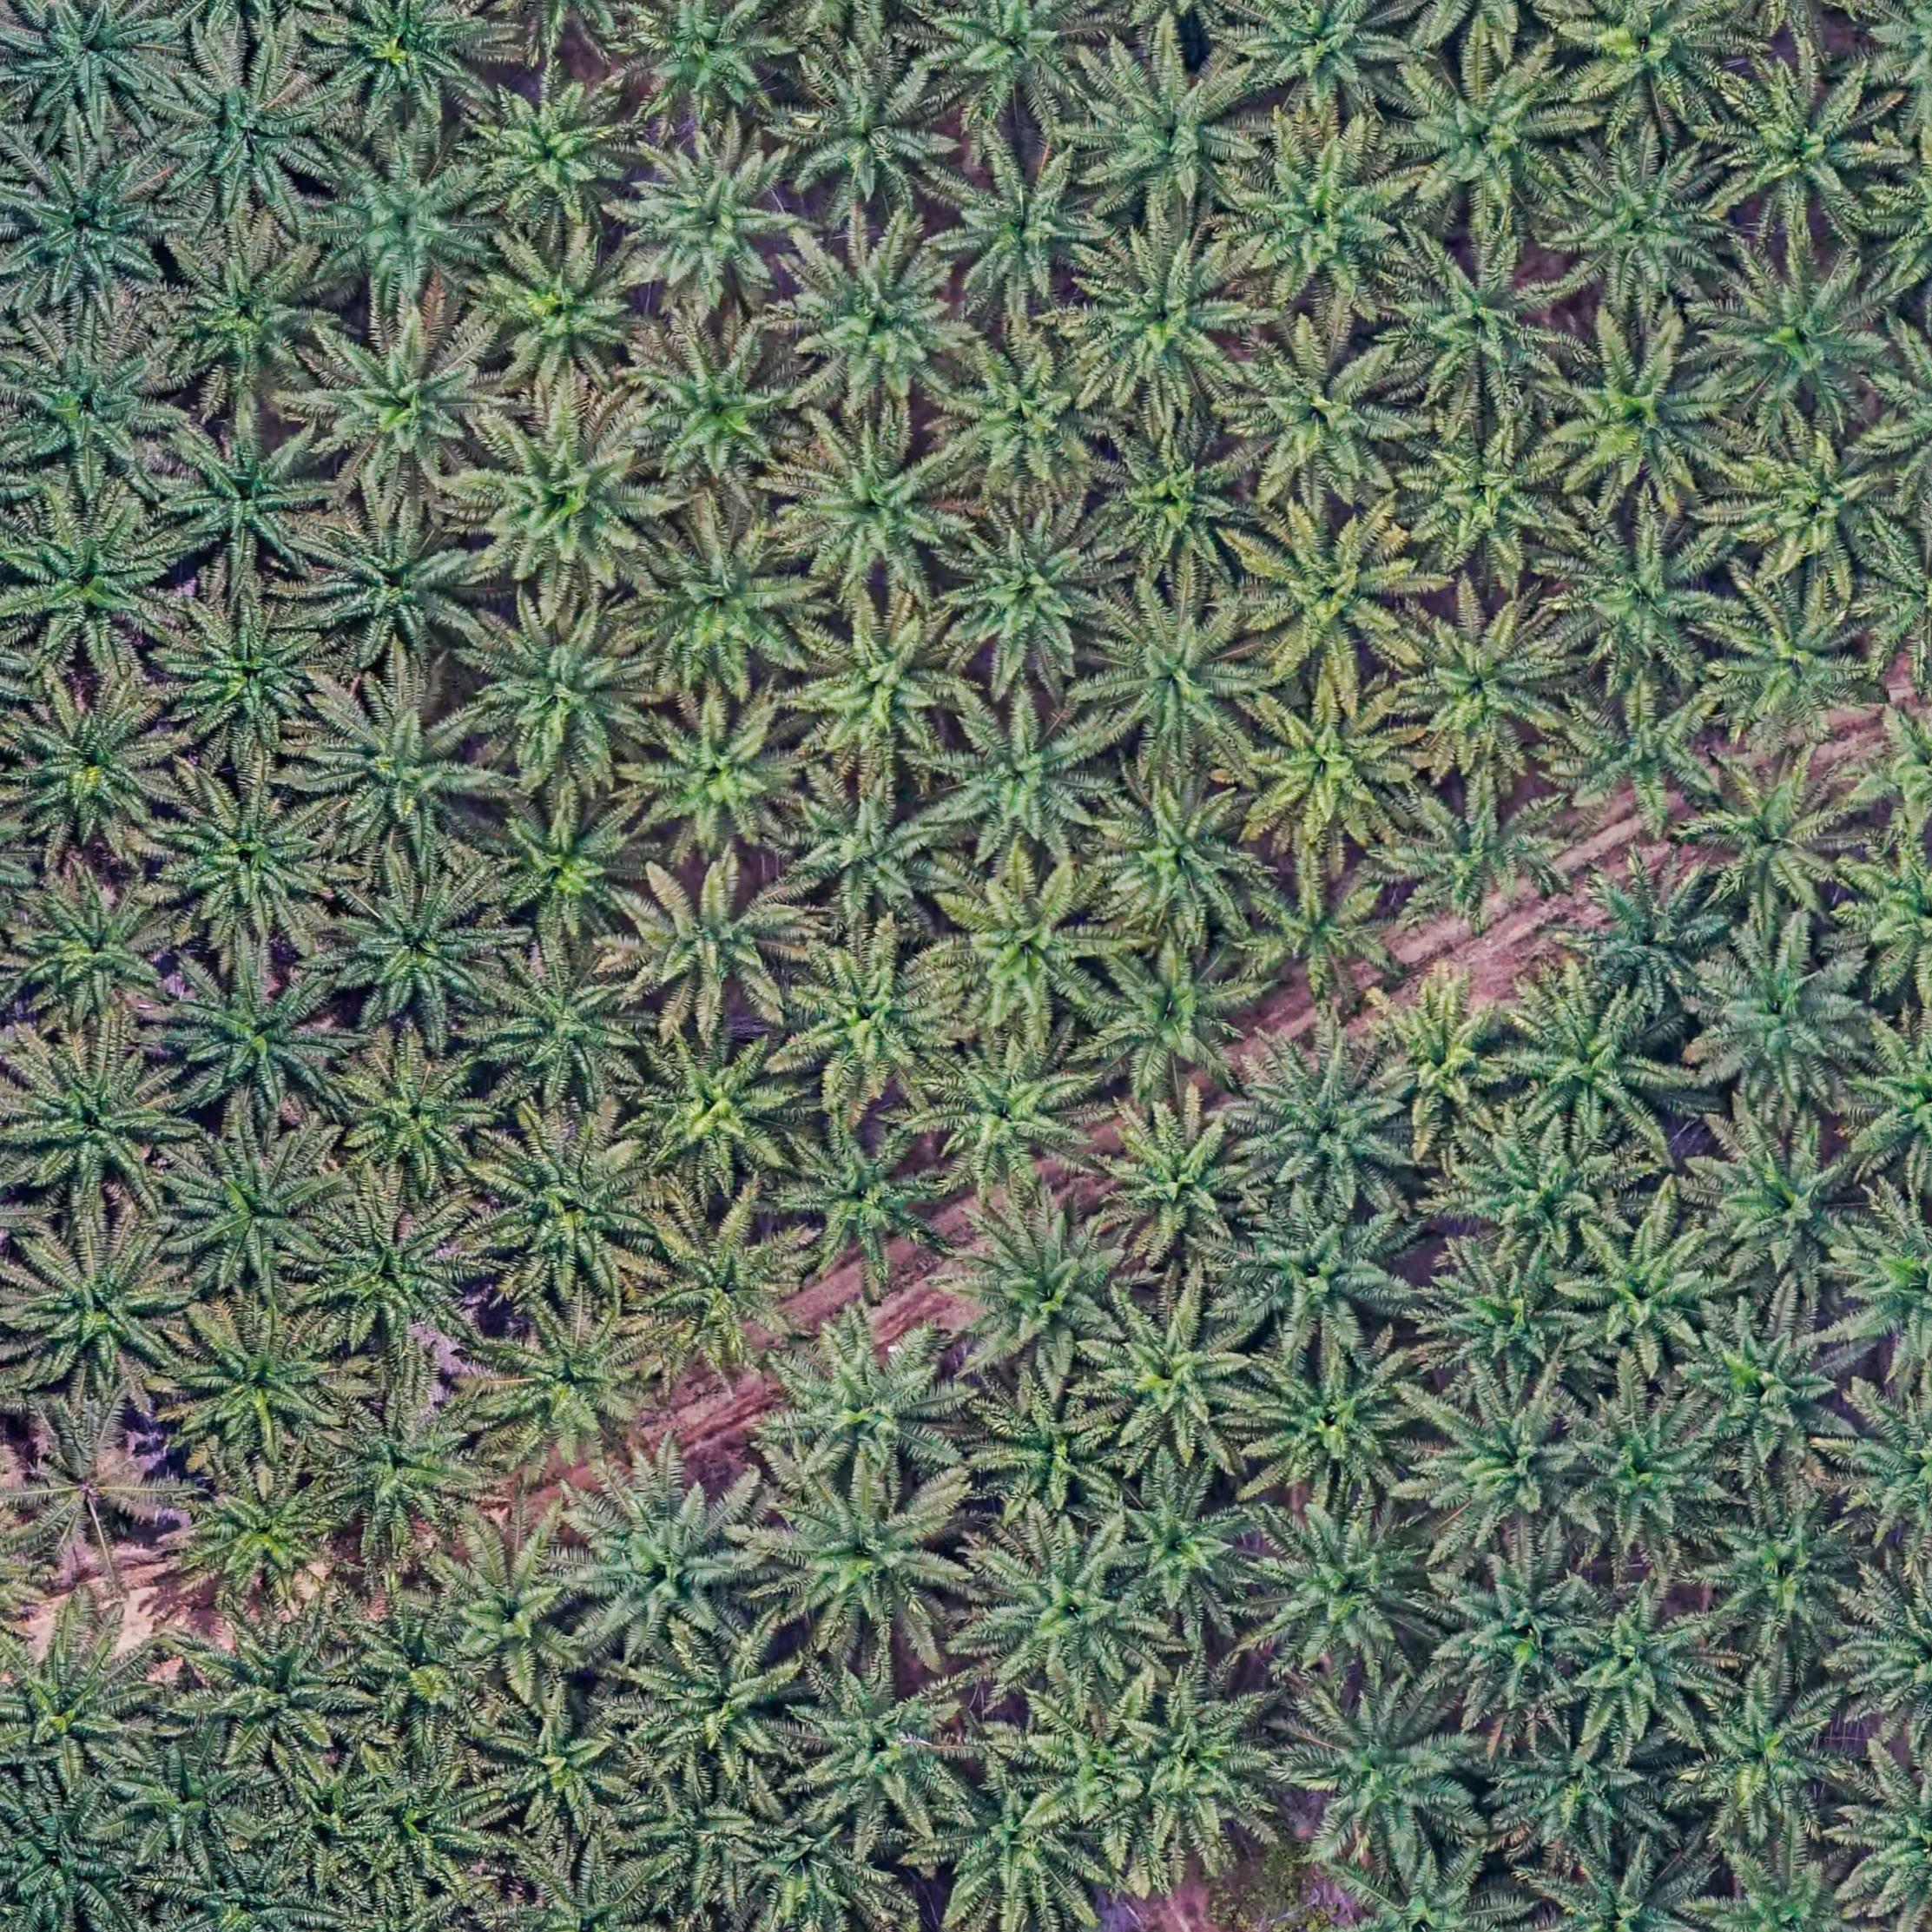palmtree: (747, 1465, 975, 1661), (556, 1463, 768, 1663), (936, 1191, 1150, 1387), (456, 402, 671, 596), (1240, 1493, 1453, 1686), (1537, 317, 1741, 517), (1276, 1675, 1484, 1868), (761, 1309, 973, 1499), (1095, 1674, 1297, 1872), (467, 1106, 663, 1300), (775, 414, 977, 603), (959, 1518, 1164, 1704), (1491, 977, 1702, 1157), (1237, 494, 1435, 685), (1686, 929, 1881, 1122), (1382, 226, 1578, 418), (778, 226, 977, 416), (1706, 239, 1900, 430), (1389, 41, 1589, 226), (1072, 225, 1265, 416), (1387, 589, 1582, 778), (1223, 318, 1417, 508), (1679, 745, 1875, 932), (782, 1647, 977, 1835), (1376, 770, 1583, 945), (1541, 134, 1739, 317), (1233, 1332, 1437, 1509), (614, 856, 819, 1031), (1083, 582, 1274, 770), (1238, 671, 1431, 856), (633, 502, 826, 688), (1536, 671, 1732, 853), (1711, 51, 1898, 241), (460, 593, 653, 777), (1668, 1660, 1863, 1842), (771, 764, 968, 945), (152, 948, 352, 1125), (938, 495, 1125, 683), (1226, 127, 1415, 313), (621, 131, 812, 315), (1237, 1040, 1428, 1223), (630, 1194, 821, 1376), (911, 1024, 1104, 1205), (1403, 1376, 1598, 1555), (1541, 506, 1737, 683), (1085, 1286, 1270, 1472), (308, 678, 501, 856), (936, 683, 1123, 865), (1081, 39, 1269, 221), (936, 858, 1125, 1039), (1079, 1092, 1270, 1270), (149, 770, 341, 947), (1424, 1537, 1610, 1718), (1392, 410, 1582, 587), (773, 936, 964, 1111), (474, 1300, 665, 1476), (621, 1021, 814, 1194), (1221, 1191, 1421, 1357), (775, 42, 961, 221), (7, 1221, 195, 1398), (625, 688, 816, 862), (1437, 1109, 1635, 1274), (789, 591, 971, 770), (1090, 768, 1274, 945), (939, 138, 1122, 315), (317, 1387, 504, 1559), (771, 1111, 952, 1286), (1697, 1115, 1879, 1288), (1081, 931, 1269, 1099), (1704, 575, 1884, 748), (1355, 968, 1529, 1148), (939, 333, 1123, 502), (310, 322, 497, 488), (1088, 416, 1267, 589), (1553, 1391, 1734, 1562), (469, 226, 651, 396), (632, 324, 814, 494), (152, 412, 333, 582), (313, 140, 497, 306), (329, 865, 515, 1030), (306, 1196, 492, 1361), (0, 142, 177, 313), (7, 1031, 186, 1201), (1228, 855, 1410, 1021), (1723, 423, 1905, 589), (308, 495, 488, 662), (7, 678, 184, 846), (929, 1760, 1109, 1925), (476, 945, 651, 1113), (1555, 1205, 1732, 1371), (1674, 1306, 1851, 1472), (1548, 1576, 1725, 1743), (472, 786, 653, 947), (165, 1306, 345, 1467), (1490, 1713, 1677, 1867), (469, 62, 642, 228), (156, 48, 331, 212), (0, 331, 179, 492), (7, 497, 179, 663), (1412, 1238, 1594, 1394), (625, 1619, 796, 1783), (1557, 855, 1730, 1017), (1698, 1488, 1874, 1649), (962, 1373, 1134, 1534), (157, 593, 334, 748), (11, 872, 182, 1031), (161, 1134, 336, 1290), (1099, 1460, 1265, 1622), (175, 1456, 350, 1606), (189, 1612, 368, 1759), (163, 237, 327, 395), (433, 1520, 582, 1693), (1552, 0, 1748, 131), (333, 1039, 504, 1187), (0, 1638, 145, 1813), (922, 0, 1116, 124), (478, 1691, 639, 1840), (1233, 0, 1421, 126), (315, 0, 499, 127), (625, 0, 805, 129), (9, 0, 179, 133), (347, 1750, 504, 1888), (347, 1582, 478, 1737), (115, 1737, 265, 1865), (748, 1819, 918, 1930), (640, 1775, 773, 1911), (0, 1787, 124, 1918), (265, 1753, 377, 1872), (163, 1861, 306, 1932)
